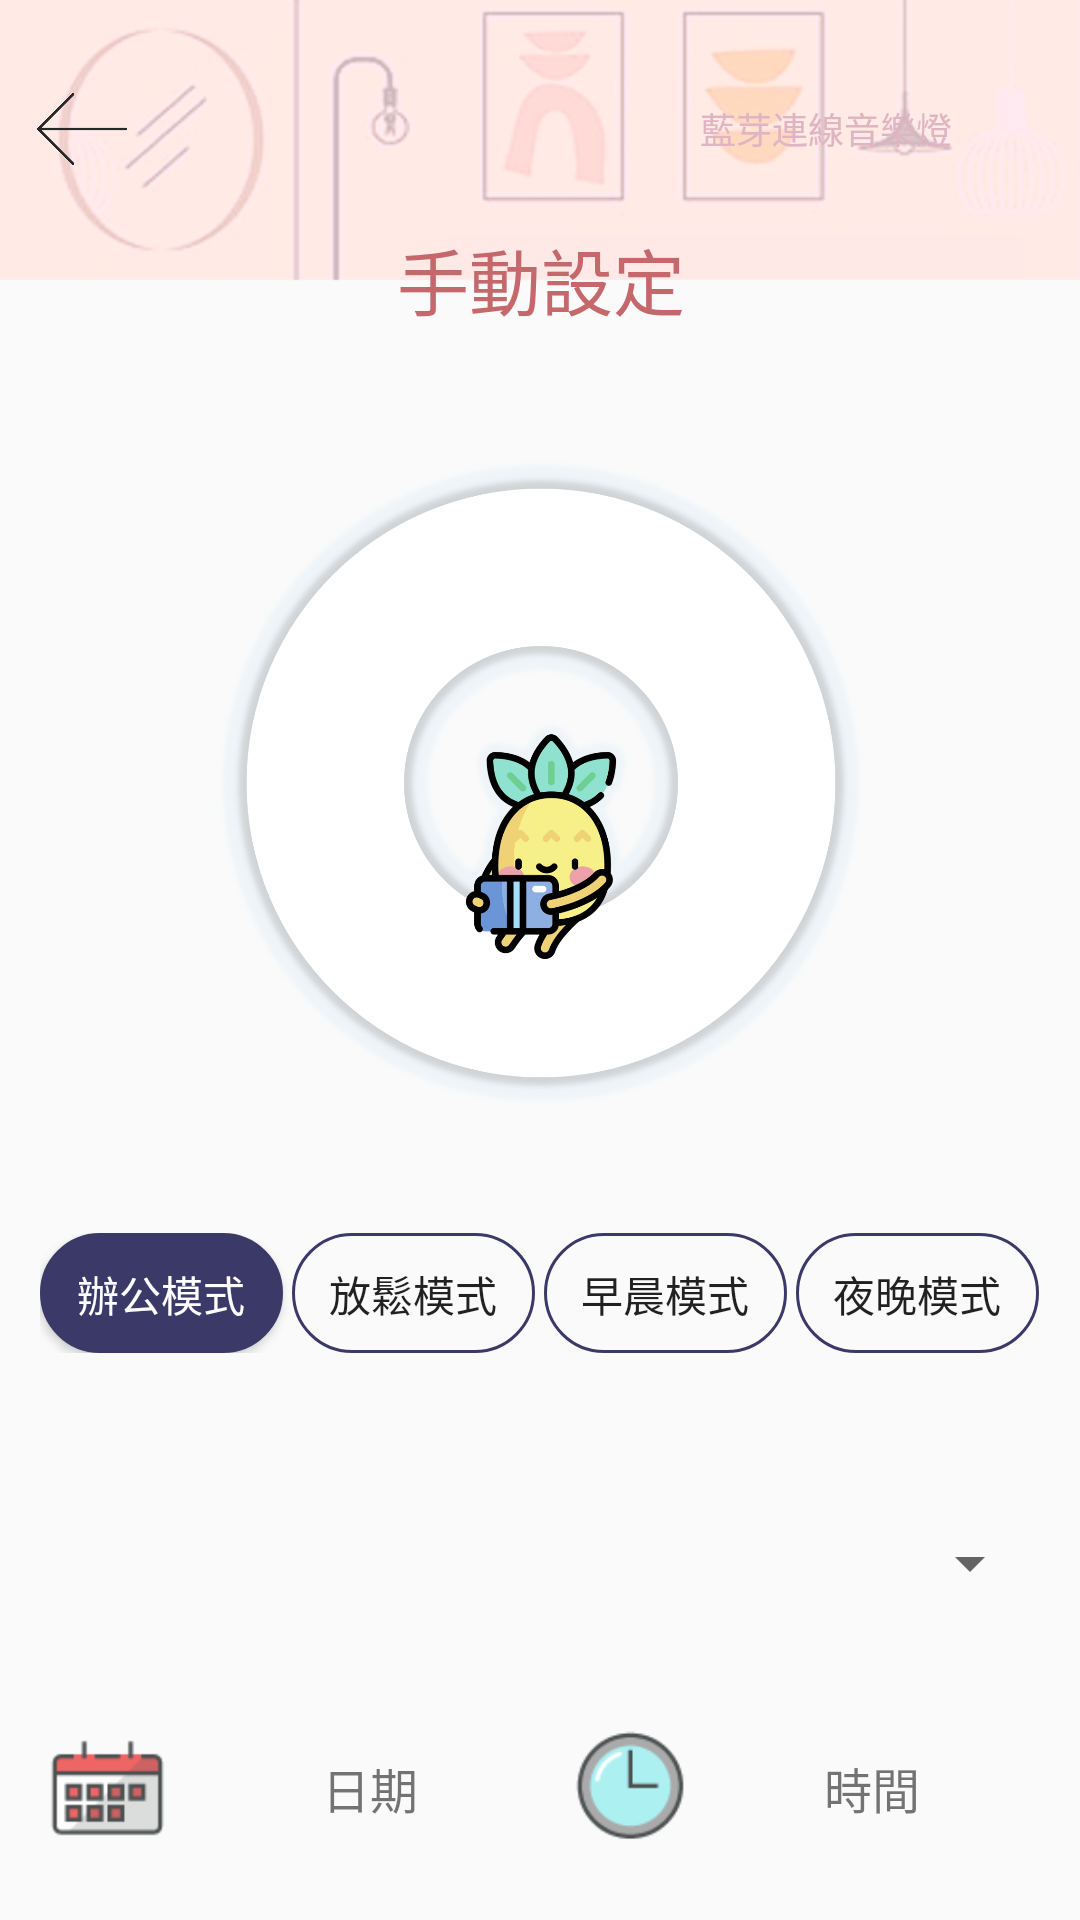

Icon click points for this 1080x1920 phone screenshot, format [x,y]:
back: [82,129]
date: [107,1788]
time: [630,1785]
